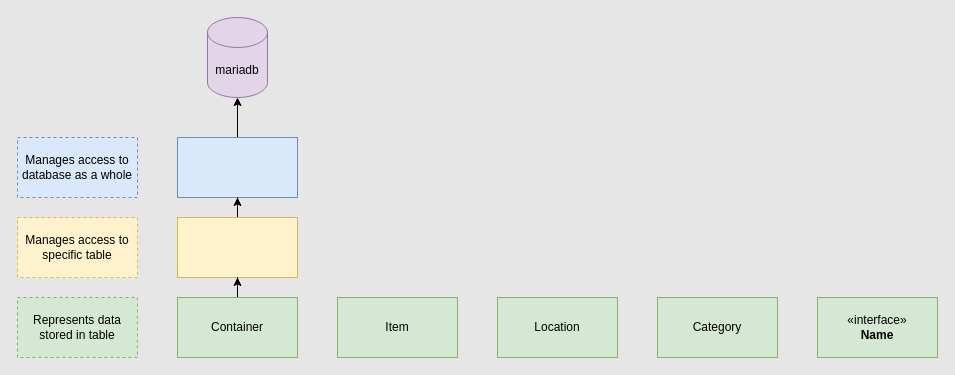
Image size: 955x375. Some labels were removed from this diagram. Here are the shapes that lost their labels. From the top down, the centre of each, then its label:
At (x=237, y=167): "database_mngr".
At (x=237, y=247): "table_mngr".
